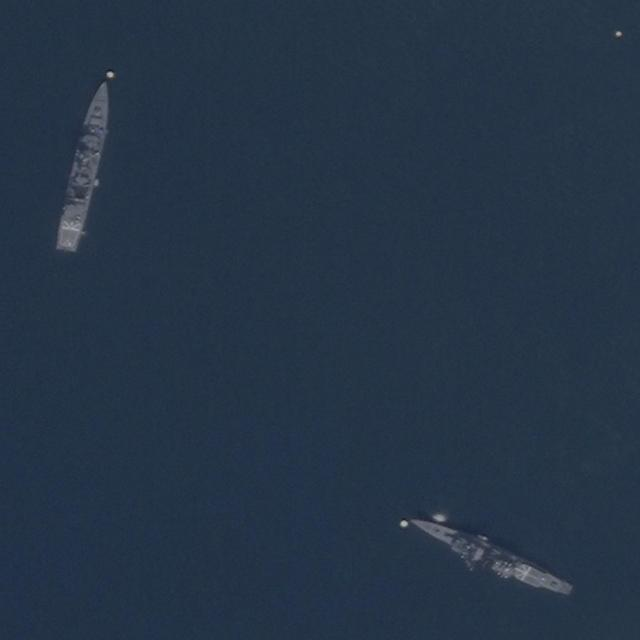Destroyer: (408, 510, 575, 602), (49, 75, 119, 253)
